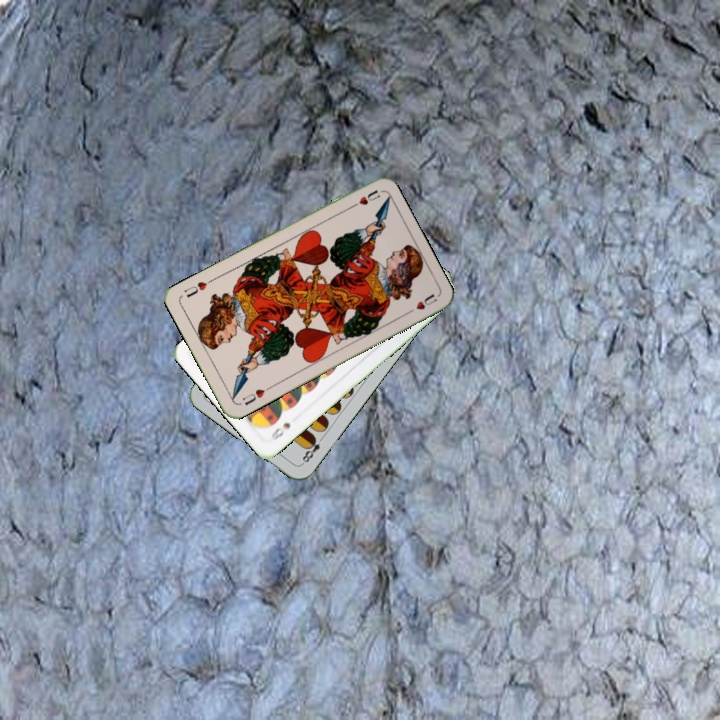E8: (297, 432, 327, 467)
HU: (345, 185, 383, 212), (238, 385, 267, 408)
S8: (267, 418, 293, 443)
